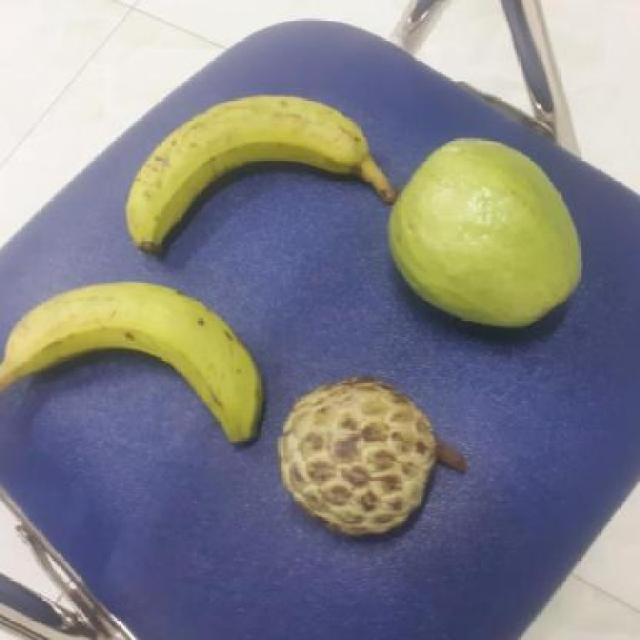banana: (1, 280, 264, 452), (132, 98, 396, 258)
guava: (387, 147, 588, 327)
sugar apple: (280, 374, 465, 538)
